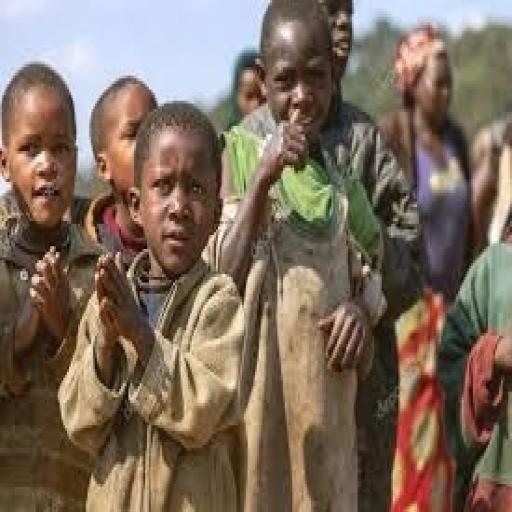clapping: (56, 98, 248, 509), (0, 59, 110, 509)
